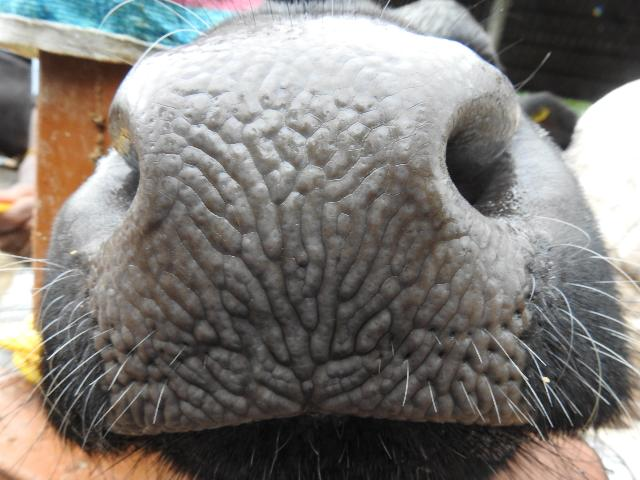Muzzle: (144, 52, 440, 416)
